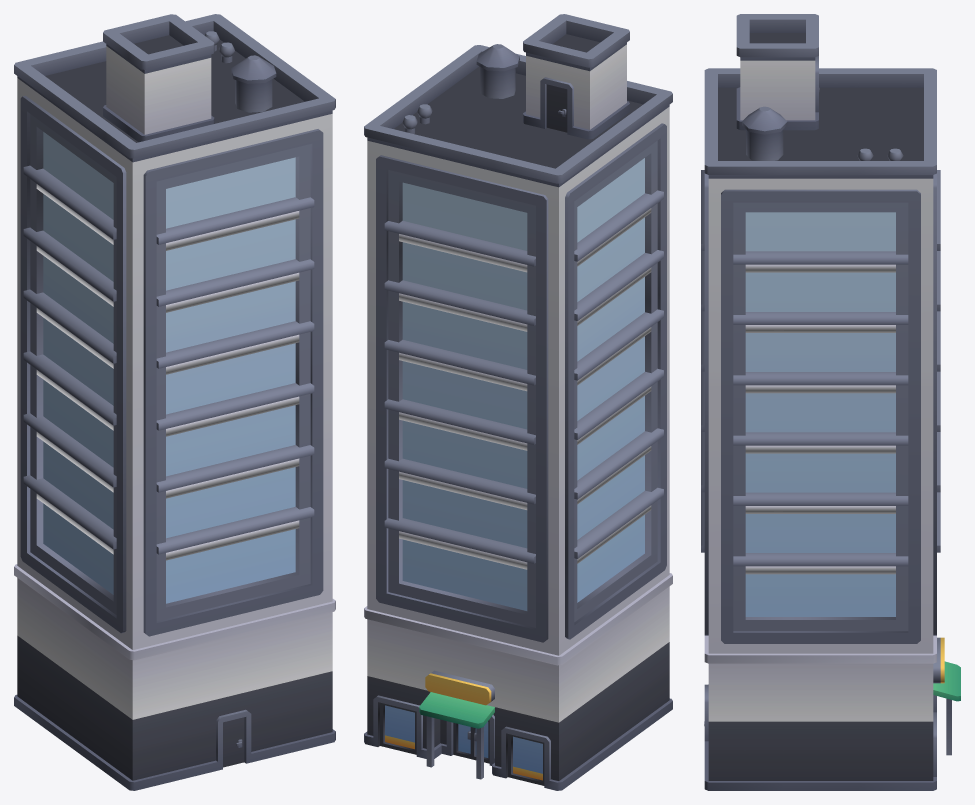
The model's file is hotell.glb.
3 views of the same model, side by side, from view 1: azimuth 30°, elevation 25°; view 2: azimuth 150°, elevation 25°; view 3: azimuth 270°, elevation 25° (orthographic). The views are drawn at different scales.
Visible parts, largest first — view 1: building-skyscraper-c; view 2: building-skyscraper-c; view 3: building-skyscraper-c.
Boxes of the visible parts, x1,y1,x2,y2 form: building-skyscraper-c: [14, 14, 335, 790]; building-skyscraper-c: [364, 14, 672, 790]; building-skyscraper-c: [701, 14, 960, 790].
Bounding box in the file's own units: 1.28 × 4.08 × 1.39.
1 material, 1 textured.
